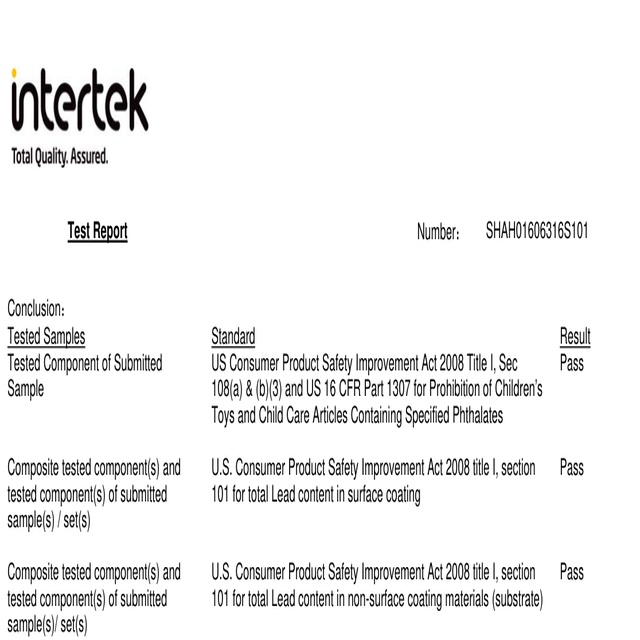intertek: (0, 62, 153, 138)
